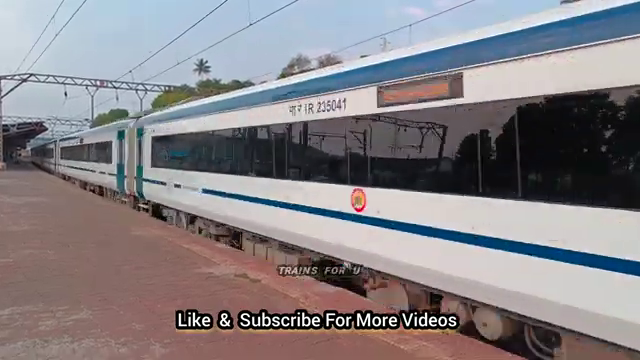Boogie: (306, 97, 353, 118)
